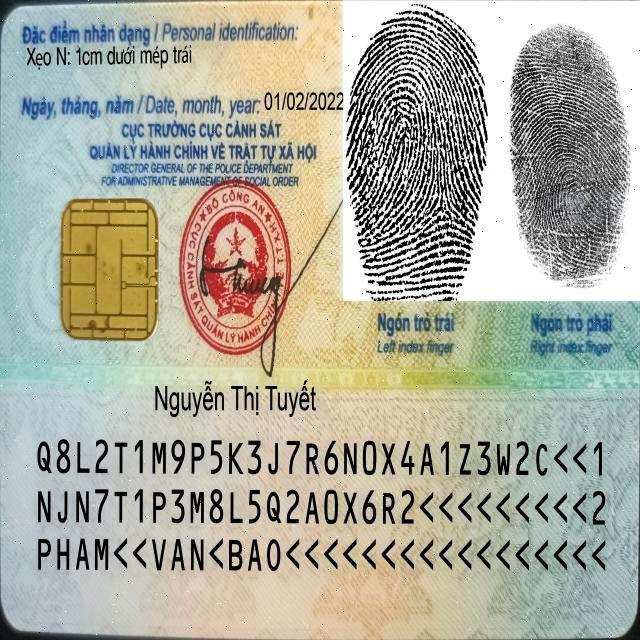features: (25, 44, 202, 72)
finger_print: (340, 2, 500, 357), (501, 2, 640, 359)
issue_date: (261, 85, 346, 117)
